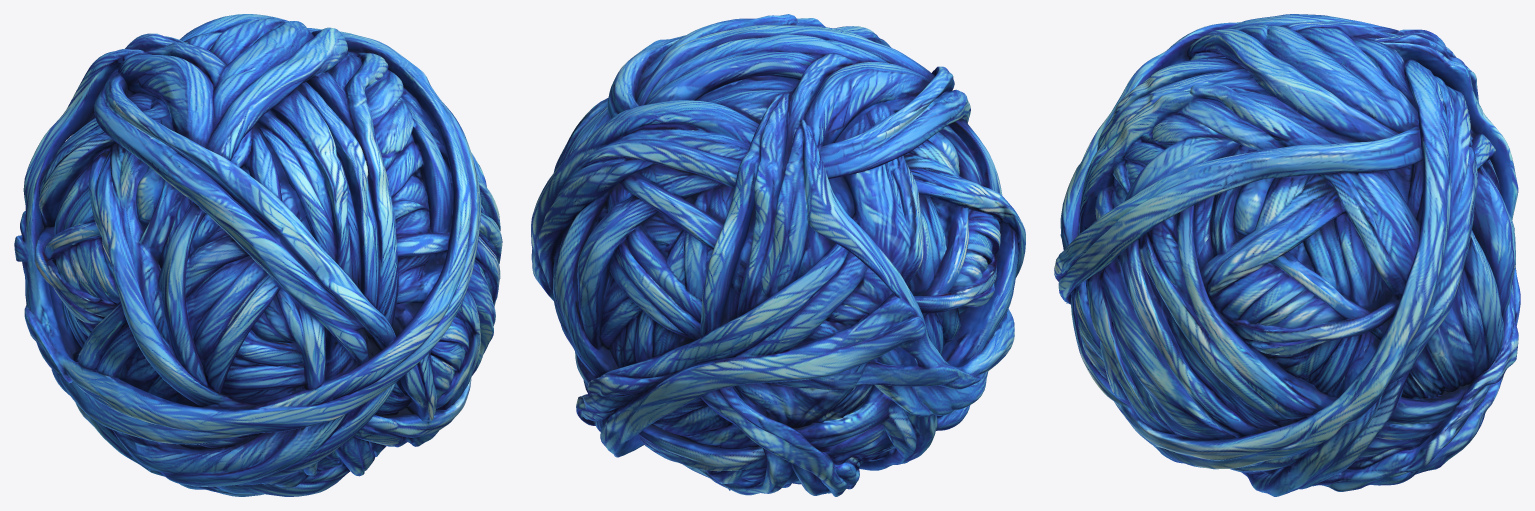
Rendered from FabricBallBlue.fbx.
The picture shows the model from 3 angles, left to right: view 1: azimuth 30°, elevation 25°; view 2: azimuth 150°, elevation 25°; view 3: azimuth 270°, elevation 25°; orthographic projection.
Visible parts, largest first — view 1: tripo_node_237a7364; view 2: tripo_node_237a7364; view 3: tripo_node_237a7364.
Part boxes in pixels (<box>): tripo_node_237a7364: <box>14,14,502,496</box>; tripo_node_237a7364: <box>531,14,1025,496</box>; tripo_node_237a7364: <box>1054,14,1520,496</box>.
Size of the model in its own units: 96.72 by 97.31 by 98.04.
